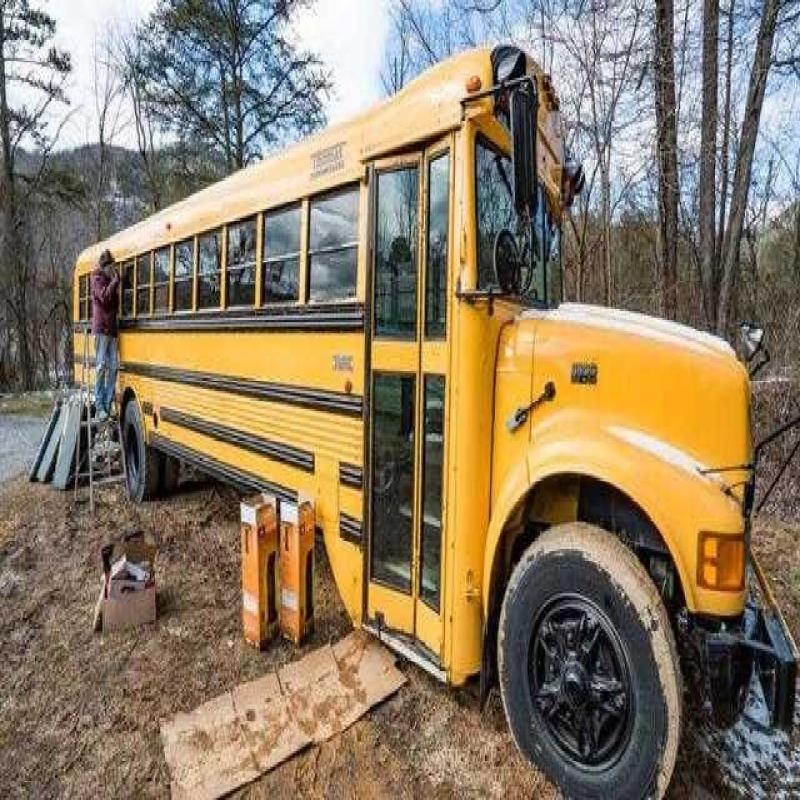bus: (64, 31, 755, 785)
